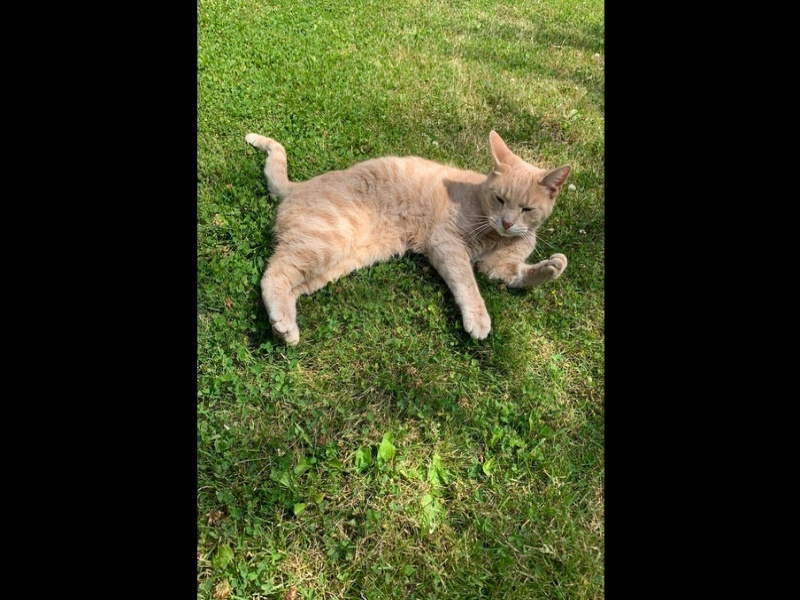cat: (238, 125, 575, 356)
